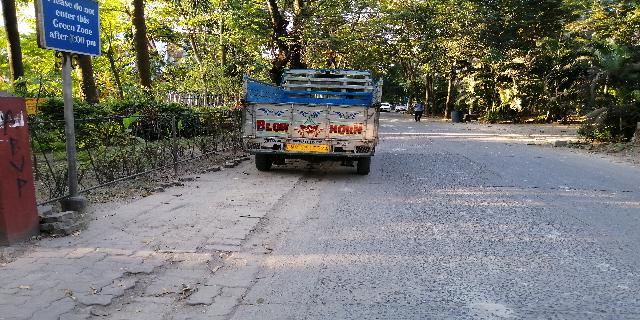Minitruck: (239, 57, 381, 178)
